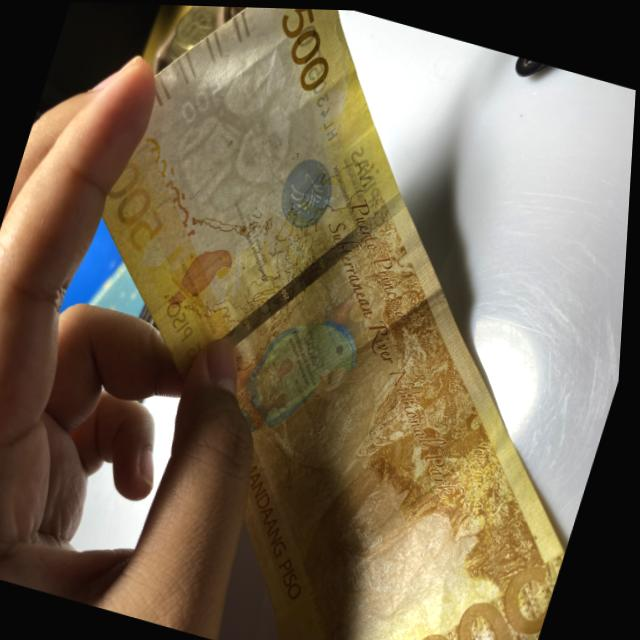500_big_parrot: (224, 296, 375, 459)
500_parrot_watermark: (166, 232, 243, 322)
value_watermark: (174, 64, 234, 129)
watermark: (157, 33, 326, 228)
